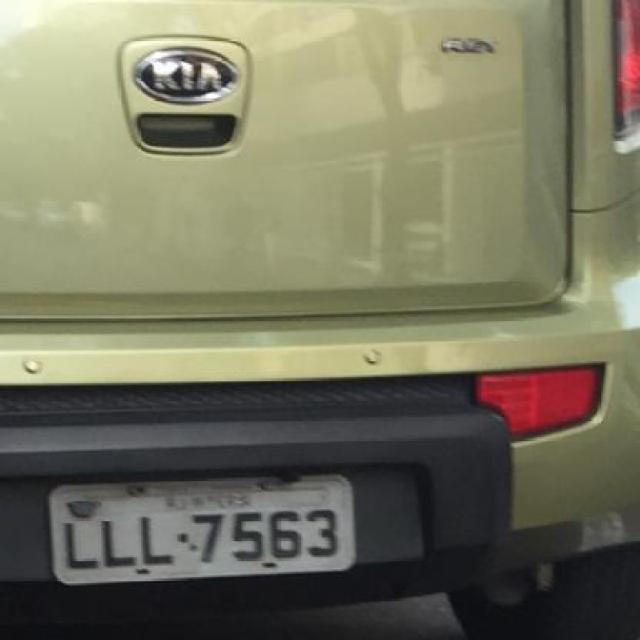old_plate: (43, 464, 362, 594)
